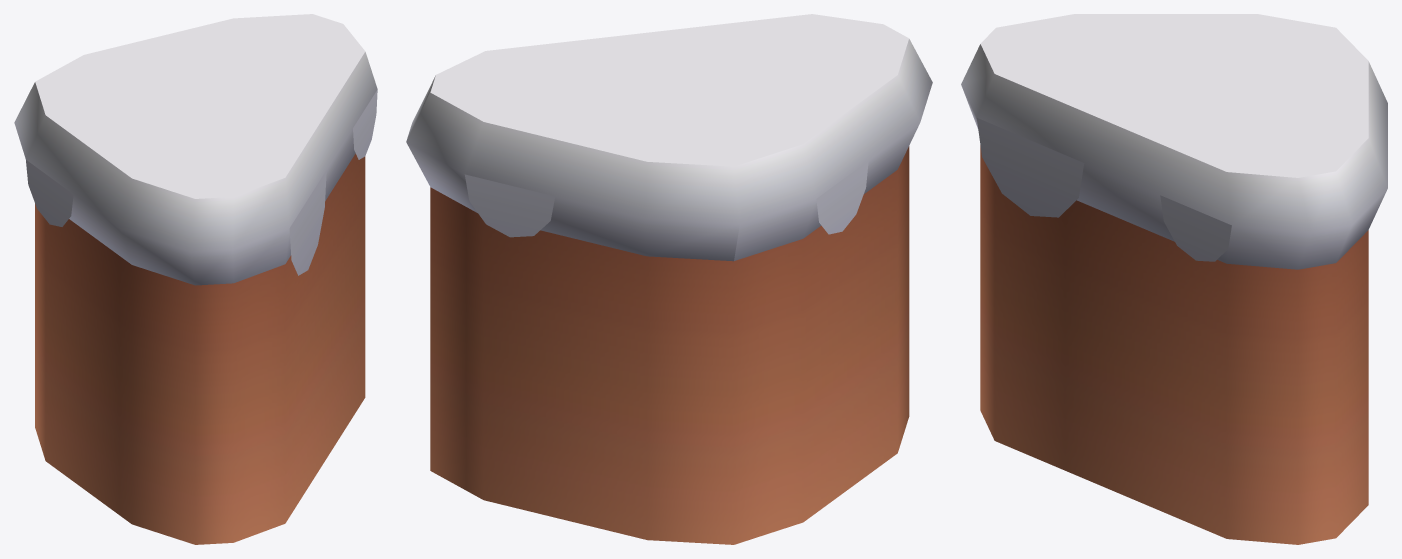
The model's file is kenney-platformer-block-snow-corner-overhang.glb.
The picture shows the model from 3 angles, left to right: view 1: azimuth 30°, elevation 25°; view 2: azimuth 150°, elevation 25°; view 3: azimuth 270°, elevation 25°; orthographic projection. The views are drawn at different scales.
Visible parts, largest first — view 1: block-snow-corner-overhang; view 2: block-snow-corner-overhang; view 3: block-snow-corner-overhang.
Boxes of the visible parts, bbox=[...] form: block-snow-corner-overhang: bbox=[14, 14, 377, 544]; block-snow-corner-overhang: bbox=[406, 14, 932, 544]; block-snow-corner-overhang: bbox=[961, 14, 1387, 544].
Size of the model in its own units: 1.05 by 1 by 1.05.
1 material, 1 textured.
